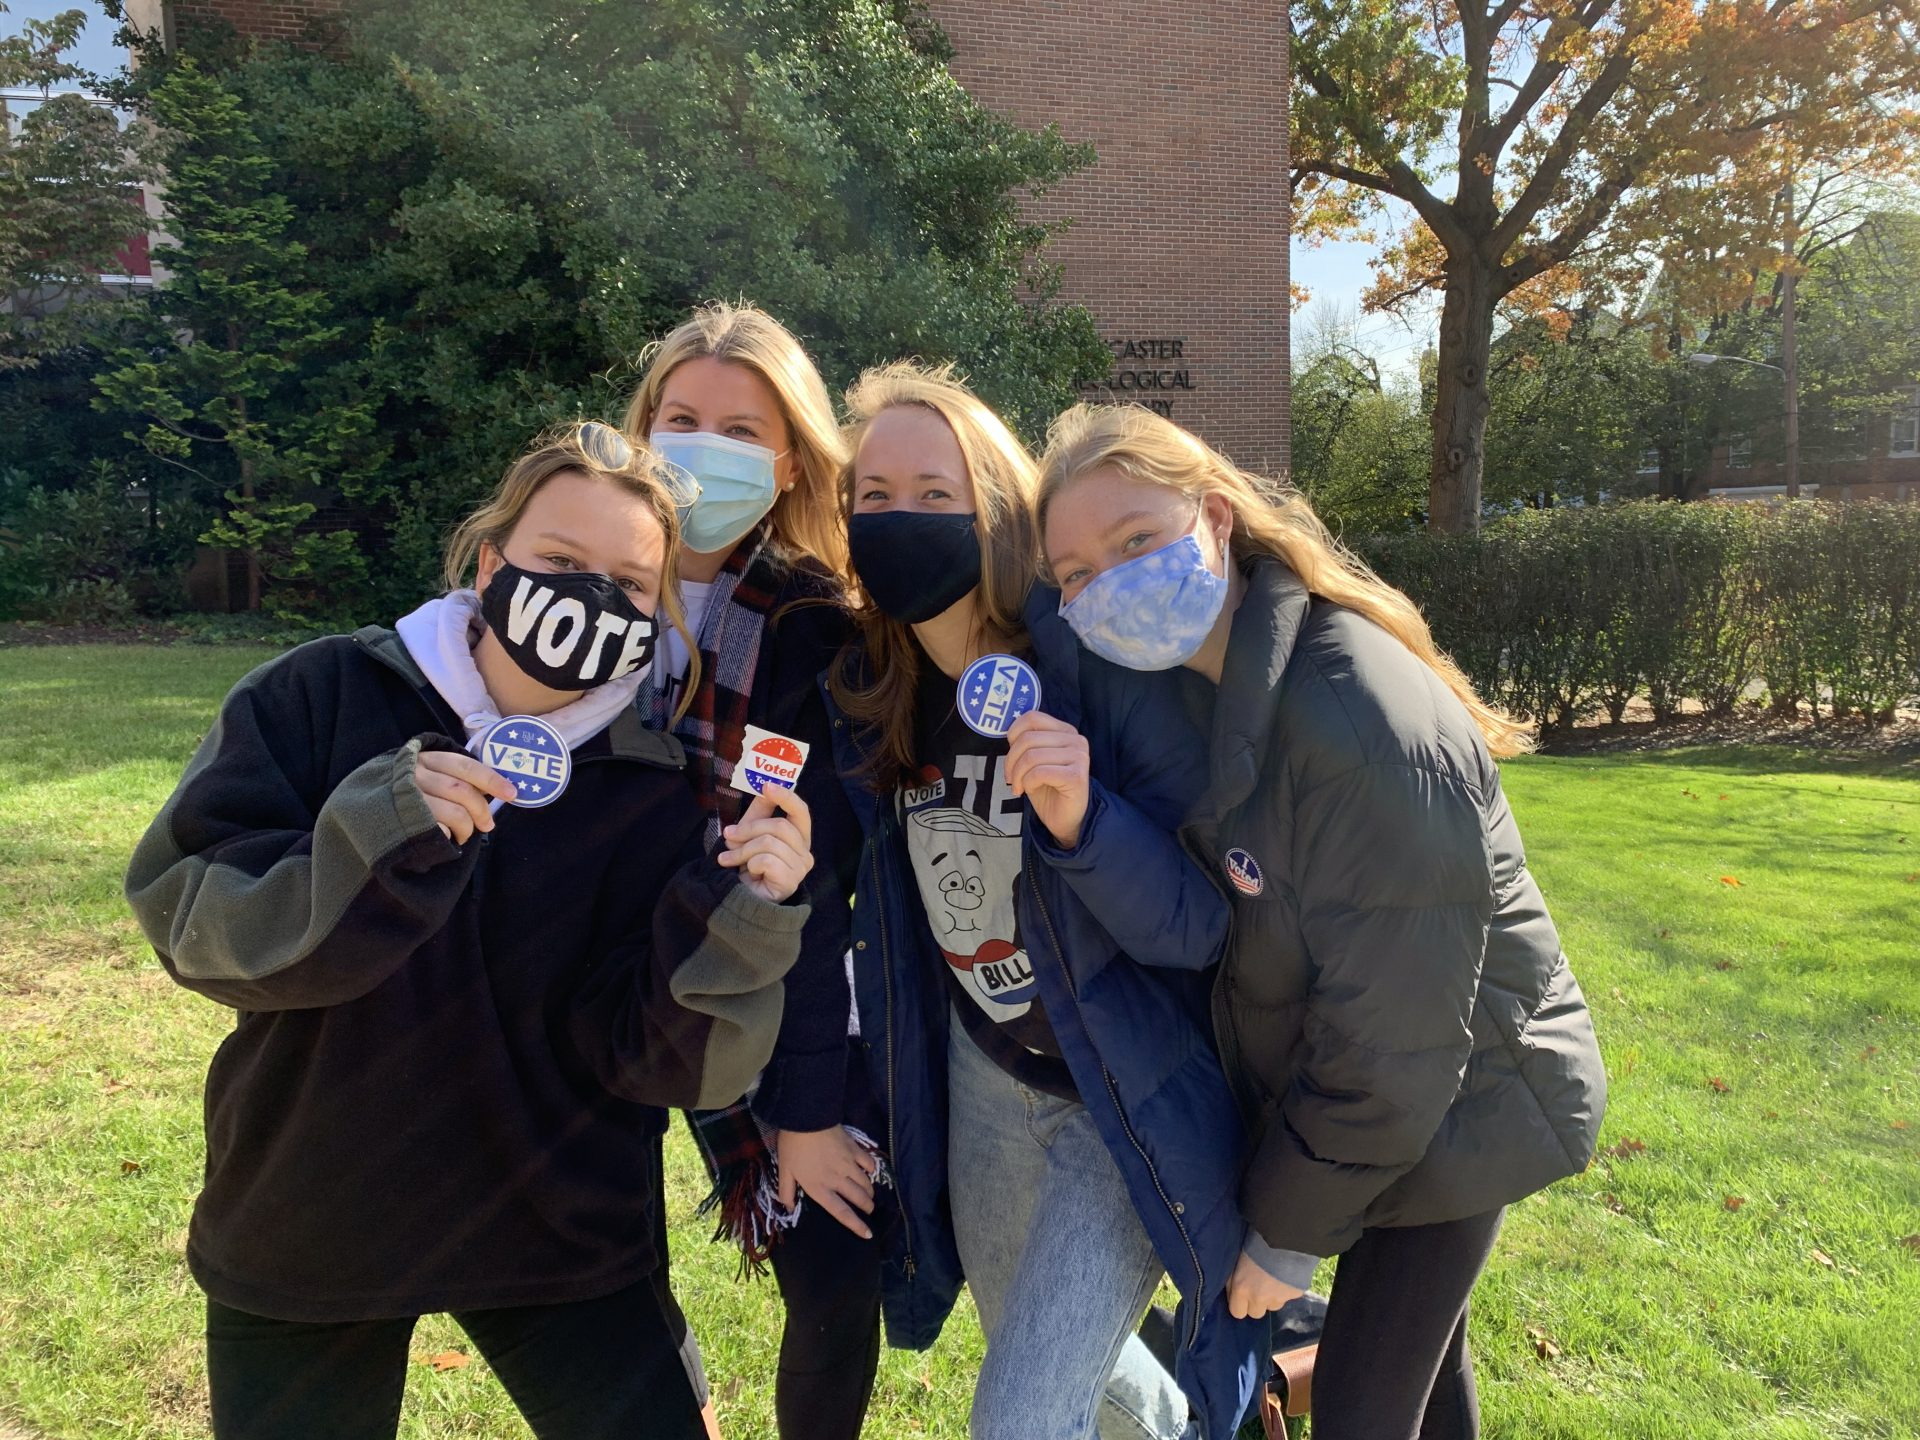with_mask: (516, 501, 641, 688), (1060, 496, 1186, 648), (656, 372, 781, 512), (856, 434, 962, 571)
